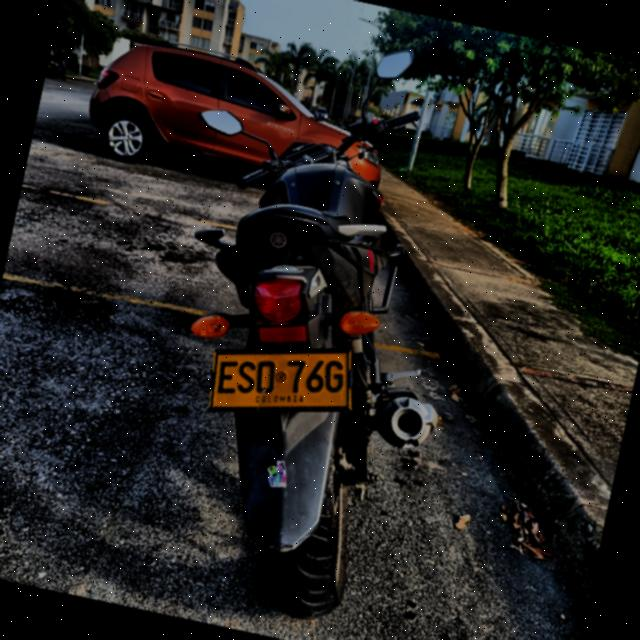plate: (211, 353, 348, 407)
